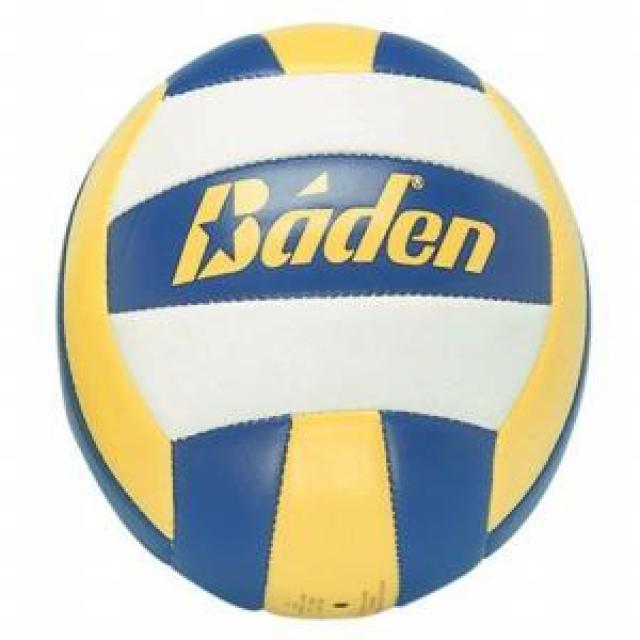volleyball: (55, 23, 591, 621)
